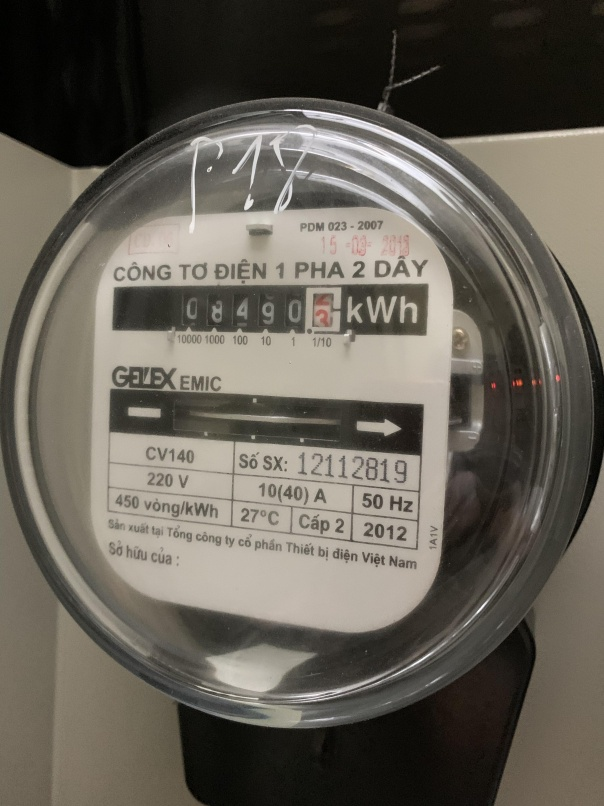counter: (110, 282, 431, 336)
electricity_meter: (8, 93, 600, 725)
